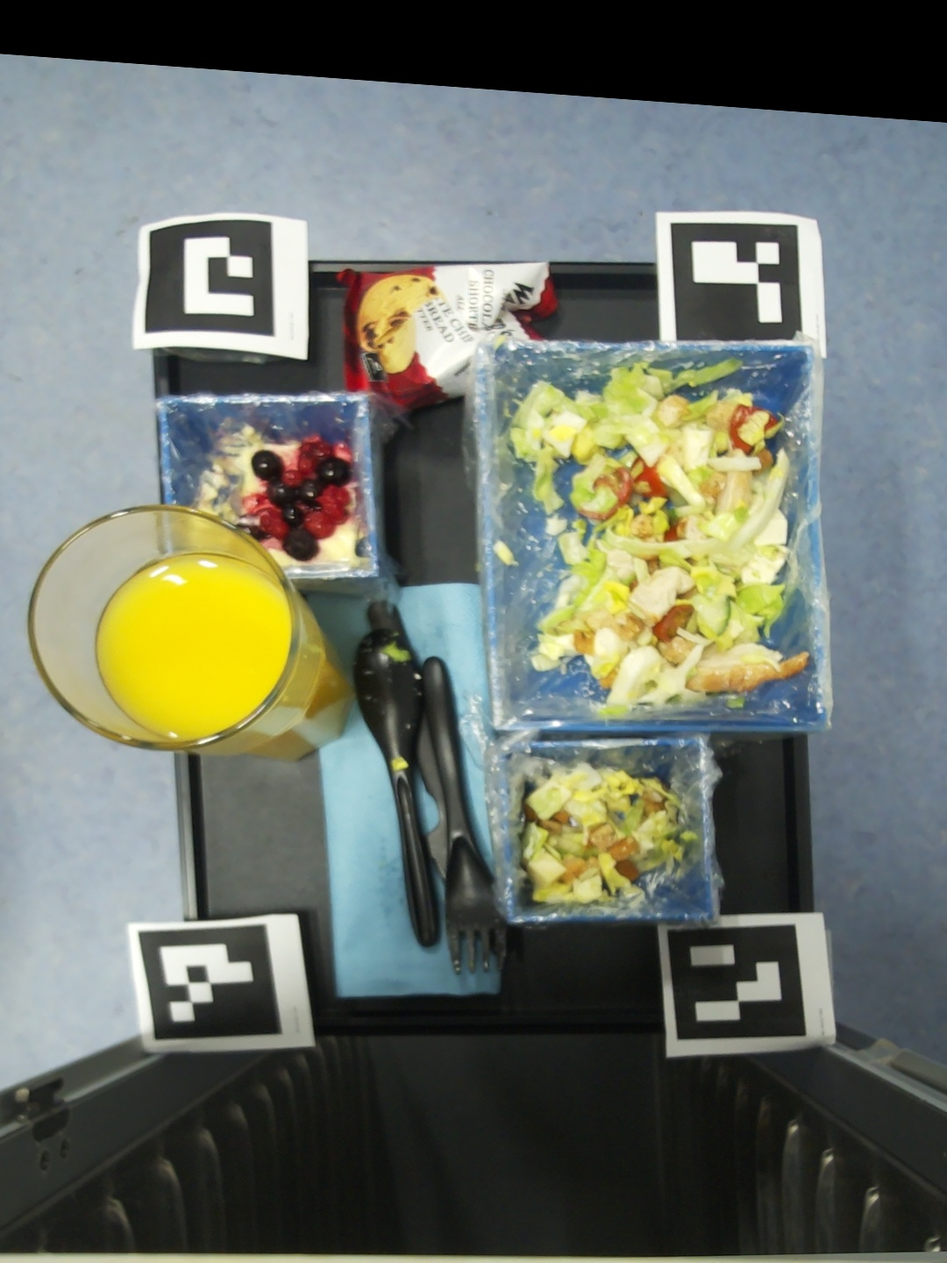cookie: (336, 262, 558, 412)
orange_juice_bottle: (28, 505, 355, 762)
salad_main: (509, 357, 809, 717), (491, 539, 519, 567), (544, 513, 567, 536), (726, 697, 745, 708)
side_salad: (520, 762, 697, 909)
vanilla_pudding_with_fruits: (196, 423, 371, 568)
